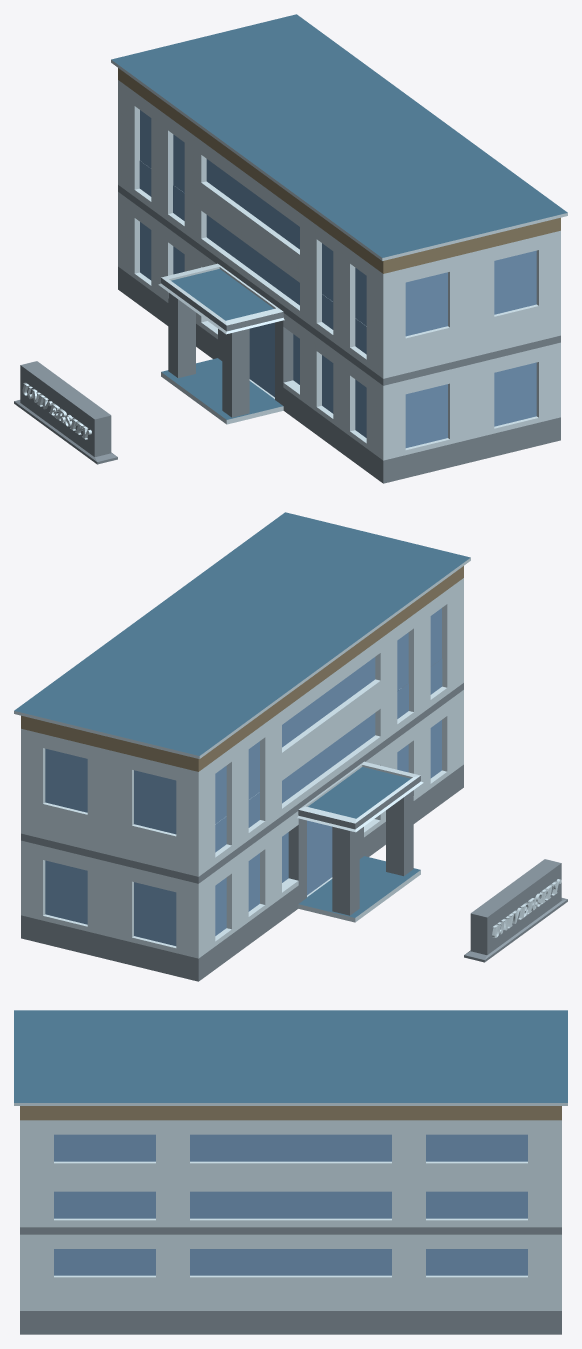
Rendered from university.glb.
3 views of the same model, one above another, from view 1: azimuth 30°, elevation 25°; view 2: azimuth 150°, elevation 25°; view 3: azimuth 270°, elevation 25° (orthographic). The views are drawn at different scales.
Parts seen in each view (by area): view 1: Cube, Text; view 2: Cube, Text; view 3: Cube.
Boxes of the visible parts, <box> form: Cube: <box>14,14,567,483</box>; Text: <box>22,382,91,439</box>; Cube: <box>14,512,567,981</box>; Text: <box>492,879,561,937</box>; Cube: <box>14,1010,567,1334</box>.
Size of the model in its own units: 12.65 by 7.33 by 15.75.
